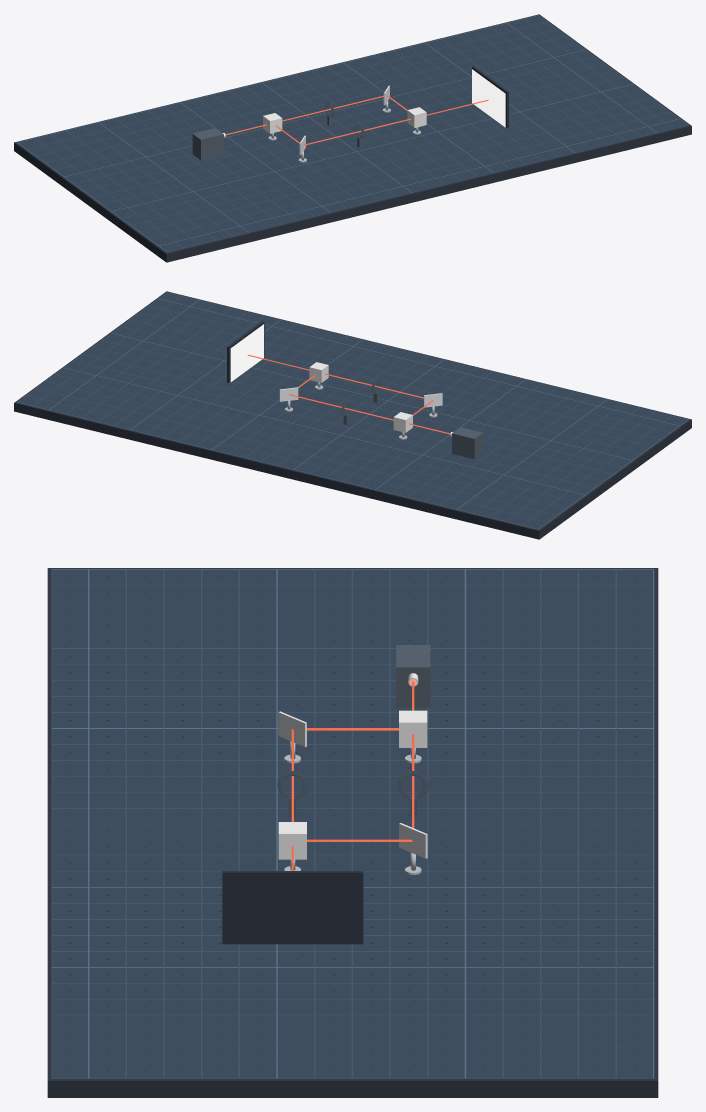
Rendered from interferometer_model.glb.
3 renders of one model, top to bottom at view 1: azimuth 30°, elevation 25°; view 2: azimuth 150°, elevation 25°; view 3: azimuth 270°, elevation 25°, orthographic. The views are drawn at different scales.
Parts seen in each view (by area): view 1: Plane, Cube, Plane.001, Cube.001; view 2: Plane, Cube, Plane.001, Cube.001; view 3: Plane, Cube, Cube.010, Cube.001, Cube.006, Cube.002.
Part boxes in pixels (x1,y1,x2,y2): Plane: (17,15,688,252); Cube: (14,14,691,262); Plane.001: (472,69,505,127); Cube.001: (192,128,223,160); Plane: (17,292,688,529); Cube: (14,291,691,539); Plane.001: (230,324,263,381); Cube.001: (452,427,483,459); Plane: (51,569,654,1078); Cube: (47,568,658,1097); Cube.010: (222,871,363,944); Cube.001: (396,645,430,708); Cube.006: (278,822,306,859); Cube.002: (399,710,427,747).
Size of what is drawn, in the model's own units: 32.2 by 3.07 by 16.2.
Materials: 14 (1 with a texture image).
